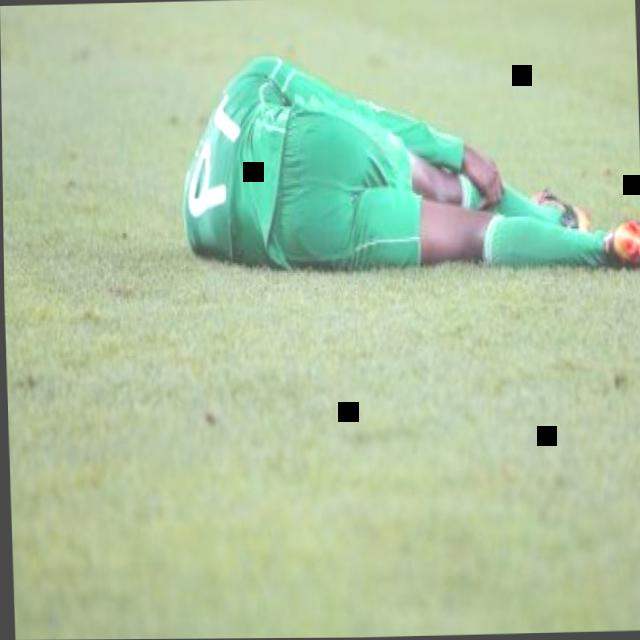Fall-Detected: (169, 26, 640, 291)
